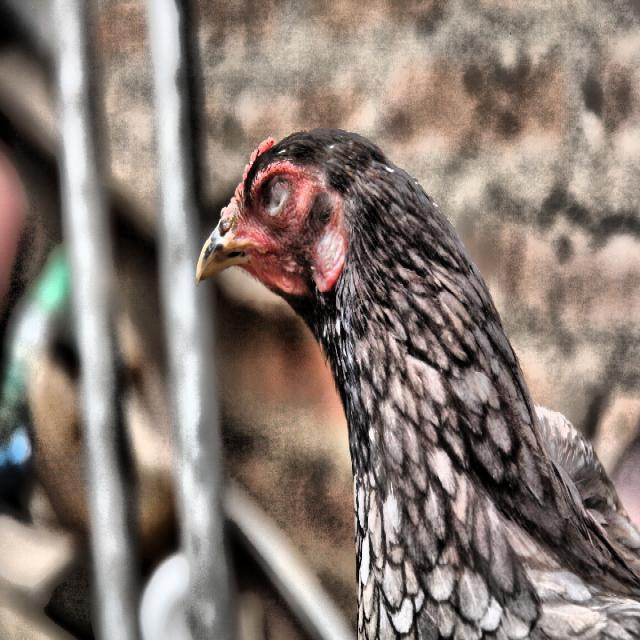Coryza: (185, 71, 471, 403)
